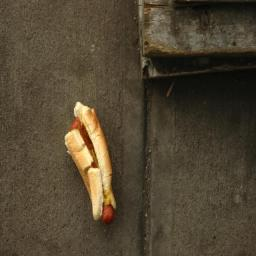hotdog: (64, 100, 120, 232)
